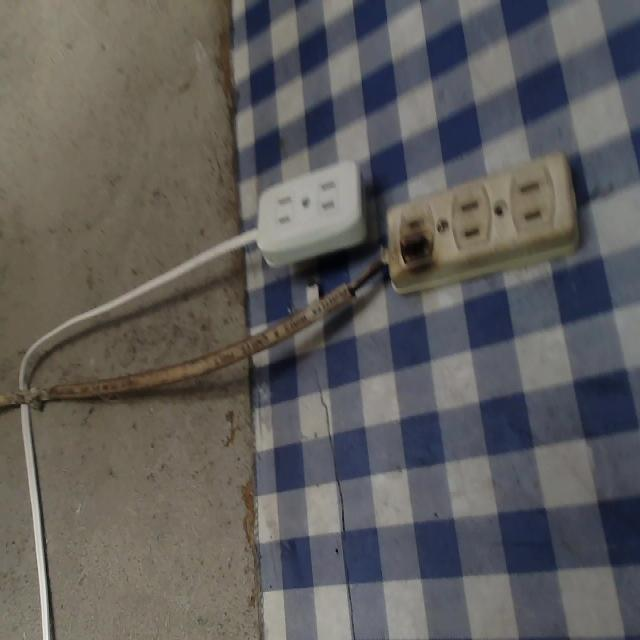-: (396, 221, 440, 275)
